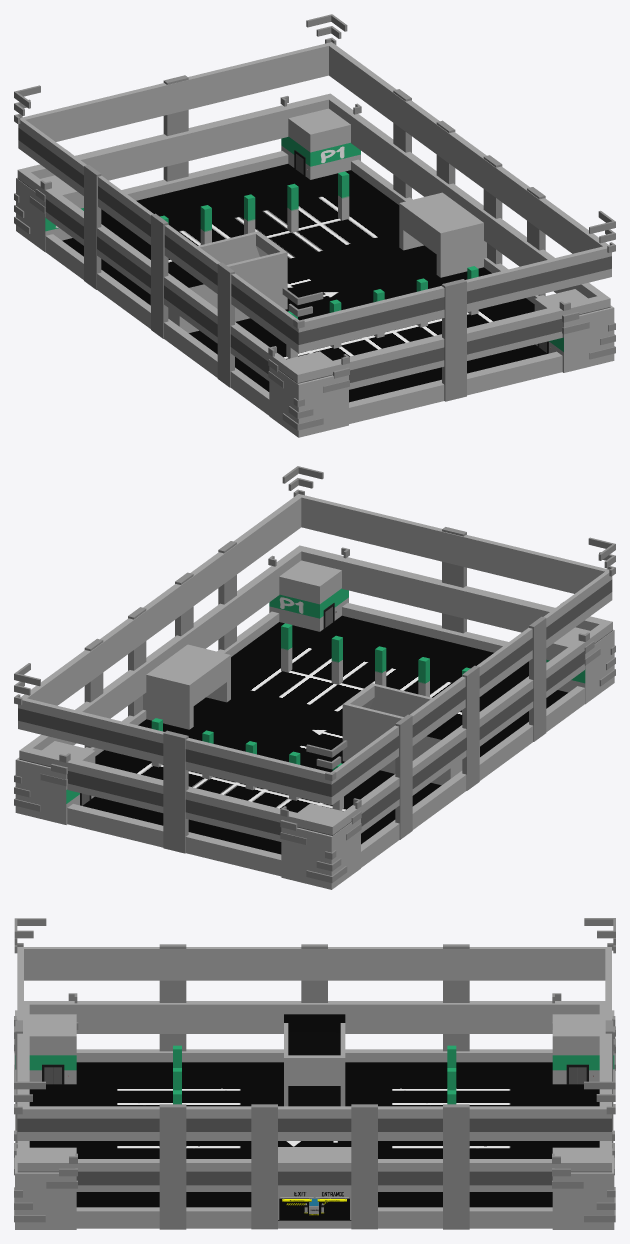
The model's file is ParkingGarageFloor_01.fbx.
3 renders of one model, top to bottom at view 1: azimuth 30°, elevation 25°; view 2: azimuth 150°, elevation 25°; view 3: azimuth 270°, elevation 25°, orthographic. The views are drawn at different scales.
Parts seen in each view (by area): view 1: ParkingGarageFloor1; view 2: ParkingGarageFloor1; view 3: ParkingGarageFloor1.
Part boxes in pixels (x1,y1,x2,y2): ParkingGarageFloor1: [14, 14, 615, 437]; ParkingGarageFloor1: [14, 466, 615, 889]; ParkingGarageFloor1: [14, 918, 615, 1229].
Size of the model in its own units: 44.02 by 18.39 by 67.97.
